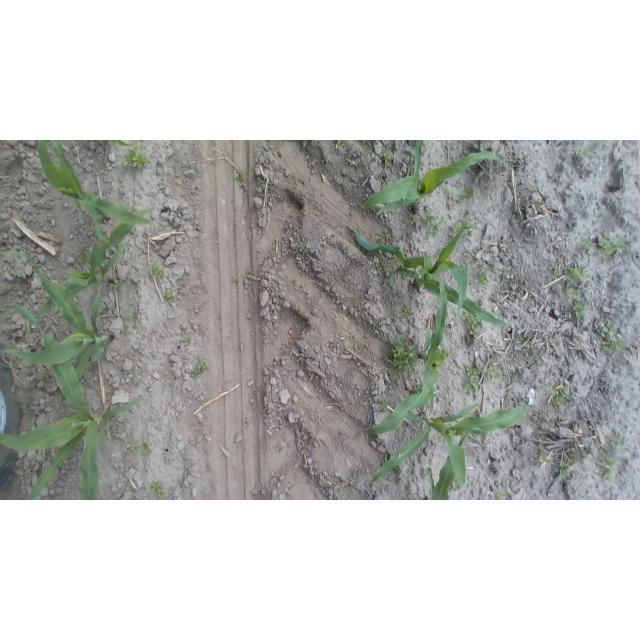Maize: (2, 301, 143, 500), (0, 249, 116, 419), (344, 224, 509, 331), (28, 202, 154, 338), (366, 399, 530, 495), (369, 273, 455, 432), (39, 141, 156, 238), (358, 144, 503, 218), (423, 425, 495, 499), (412, 141, 425, 176)
Weeds: (382, 333, 422, 383), (411, 210, 446, 239), (598, 231, 627, 259), (121, 148, 151, 170), (462, 363, 482, 396), (554, 266, 593, 282), (464, 310, 483, 338), (549, 383, 572, 406), (451, 215, 477, 234), (599, 339, 629, 355), (601, 451, 622, 471), (190, 358, 210, 378), (598, 321, 618, 339), (146, 262, 166, 279), (151, 481, 168, 500), (576, 237, 593, 256), (234, 168, 248, 189), (487, 365, 504, 382), (572, 303, 589, 320), (610, 433, 626, 451), (377, 230, 394, 246), (475, 269, 490, 286), (459, 187, 476, 202), (602, 464, 616, 482), (556, 464, 571, 479), (535, 450, 550, 464), (140, 441, 153, 457), (163, 289, 177, 303), (378, 398, 390, 414), (449, 474, 460, 491), (76, 249, 89, 263), (379, 150, 393, 163), (565, 452, 579, 465), (442, 347, 455, 361), (263, 180, 275, 195), (567, 288, 581, 300), (113, 279, 125, 292), (580, 148, 592, 160), (128, 309, 140, 321), (493, 490, 509, 499), (181, 335, 193, 347), (378, 262, 391, 273), (403, 306, 414, 319), (274, 442, 285, 454), (522, 339, 534, 350), (119, 322, 129, 334), (413, 384, 423, 395), (379, 456, 389, 466), (242, 418, 251, 429), (298, 243, 307, 254), (232, 276, 243, 285), (393, 318, 402, 328), (129, 443, 137, 454), (59, 412, 73, 418), (571, 207, 583, 214), (107, 388, 116, 397), (396, 468, 405, 476), (95, 389, 102, 398), (598, 300, 607, 307), (601, 141, 609, 146), (318, 140, 321, 142)
